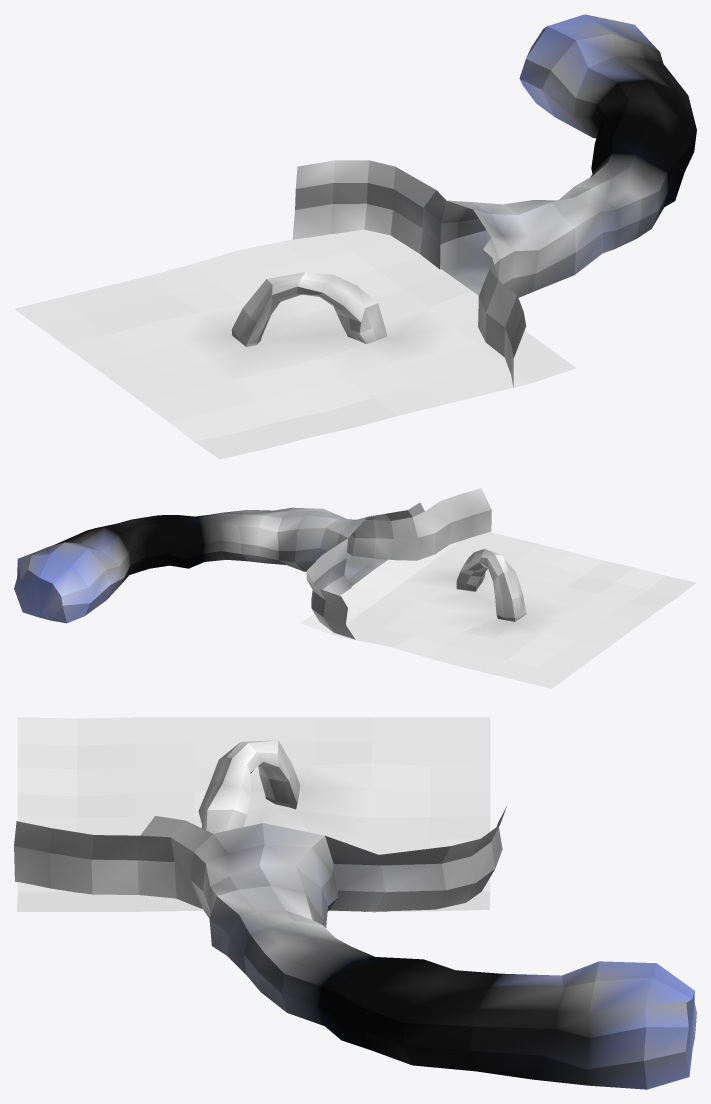
The model's file is Dev_Env_02_Vertex_Color.fbx.
3 views of the same model, one above another, from view 1: azimuth 30°, elevation 25°; view 2: azimuth 150°, elevation 25°; view 3: azimuth 270°, elevation 25° (orthographic). The views are drawn at different scales.
Visible parts, largest first — view 1: Plane, Plane.001, Cube; view 2: Plane, Plane.001, Cube; view 3: Plane.001, Plane, Cube.
Boxes of the visible parts, x1,y1,x2,y2 form: Plane: (14,229,575,459); Plane.001: (292,14,696,388); Cube: (231,272,387,346); Plane: (301,532,696,688); Plane.001: (14,488,491,639); Cube: (456,549,526,621); Plane.001: (14,806,696,1089); Plane: (17,717,490,911); Cube: (198,740,300,833).
Bounding box in the file's own units: 5018 × 680 × 3743.
